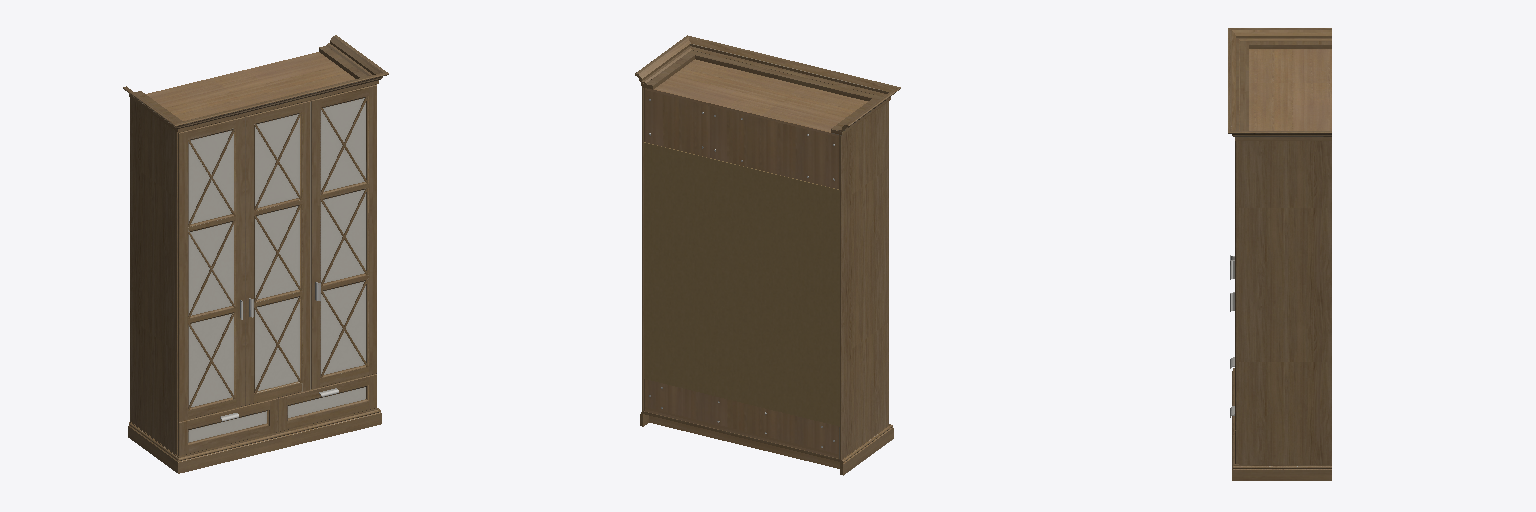
The picture shows the model from 3 angles: view 1: azimuth 30°, elevation 25°; view 2: azimuth 150°, elevation 25°; view 3: azimuth 270°, elevation 25°; orthographic projection.
Parts seen in each view (by area): view 1: solid_001, solid_002, solid_005; view 2: solid_004, solid_005, solid_001; view 3: solid_001, solid_005.
Boxes of the visible parts, x1=… form: solid_001: x1=123, y1=35, x2=388, y2=473; solid_002: x1=189, y1=98, x2=365, y2=441; solid_005: x1=146, y1=52, x2=354, y2=120; solid_004: x1=644, y1=142, x2=839, y2=426; solid_005: x1=645, y1=59, x2=867, y2=468; solid_001: x1=635, y1=35, x2=900, y2=475; solid_001: x1=1228, y1=28, x2=1331, y2=480; solid_005: x1=1249, y1=49, x2=1331, y2=130.
Size of the model in its own units: 0.967 by 1.52 by 0.4098.
1 materials, 1 textured.